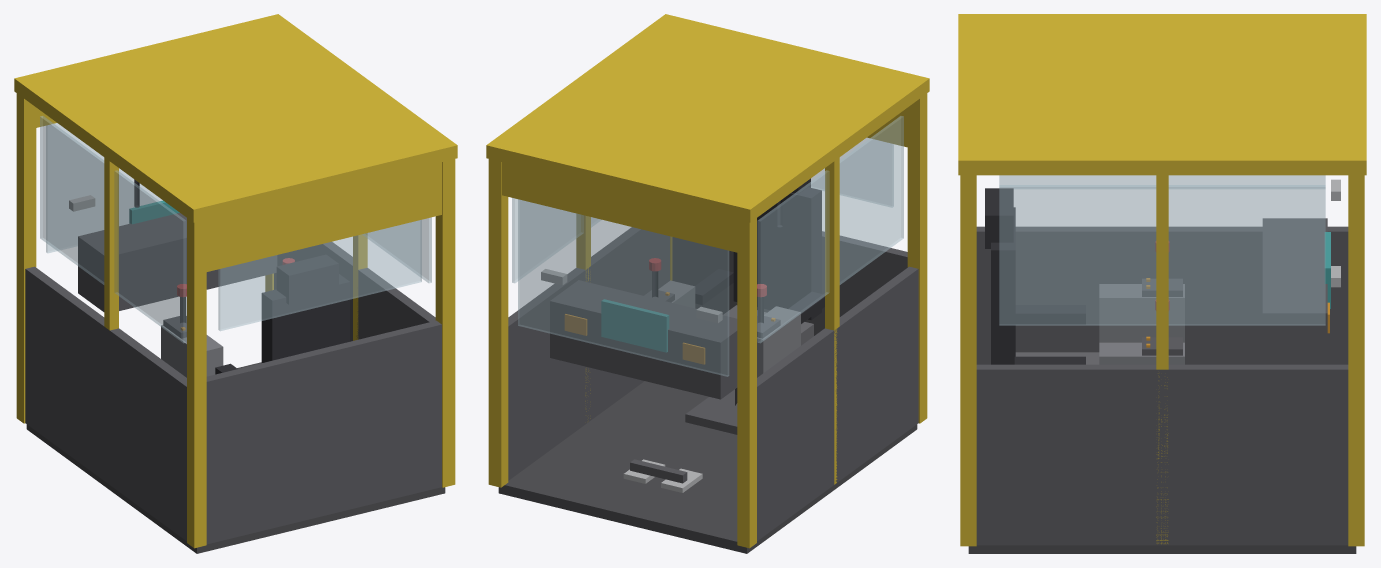
The model's file is excavator_cab_interior.glb.
The picture shows the model from 3 angles, left to right: view 1: azimuth 30°, elevation 25°; view 2: azimuth 150°, elevation 25°; view 3: azimuth 270°, elevation 25°; orthographic projection. The views are drawn at different scales.
Parts seen in each view (by area): view 1: ExcavatorCabInterior; view 2: ExcavatorCabInterior; view 3: ExcavatorCabInterior.
Part boxes in pixels (x1=…): ExcavatorCabInterior: x1=14, y1=14, x2=457, y2=553; ExcavatorCabInterior: x1=486, y1=14, x2=929, y2=553; ExcavatorCabInterior: x1=958, y1=14, x2=1366, y2=553.
Size of the model in its own units: 1.7 by 2.15 by 2.
